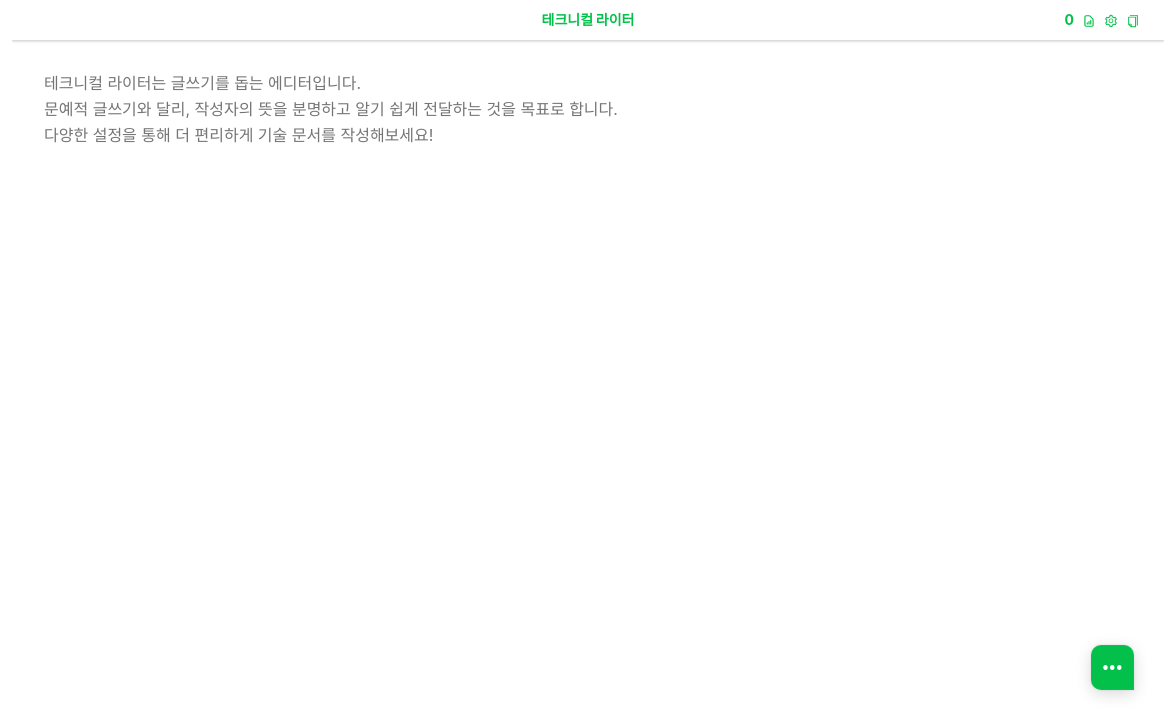
Test: Rendering › close by icon
Click the 1st icon with class "icon--button": {"x": 1089, "y": 23} [1082,14,1096,32]
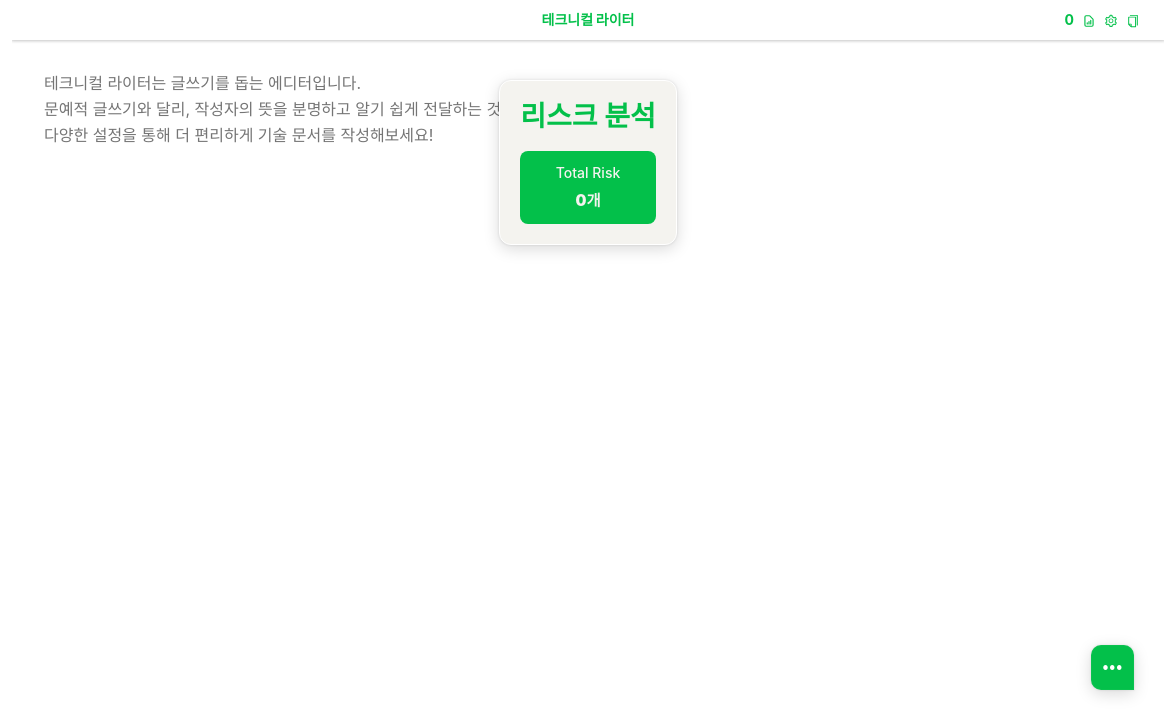
Now the element with class "modal--REPORT" is shown, box [499,80,677,245]
Click the 1st icon with class "icon--button": {"x": 1089, "y": 23} [1082,14,1096,32]
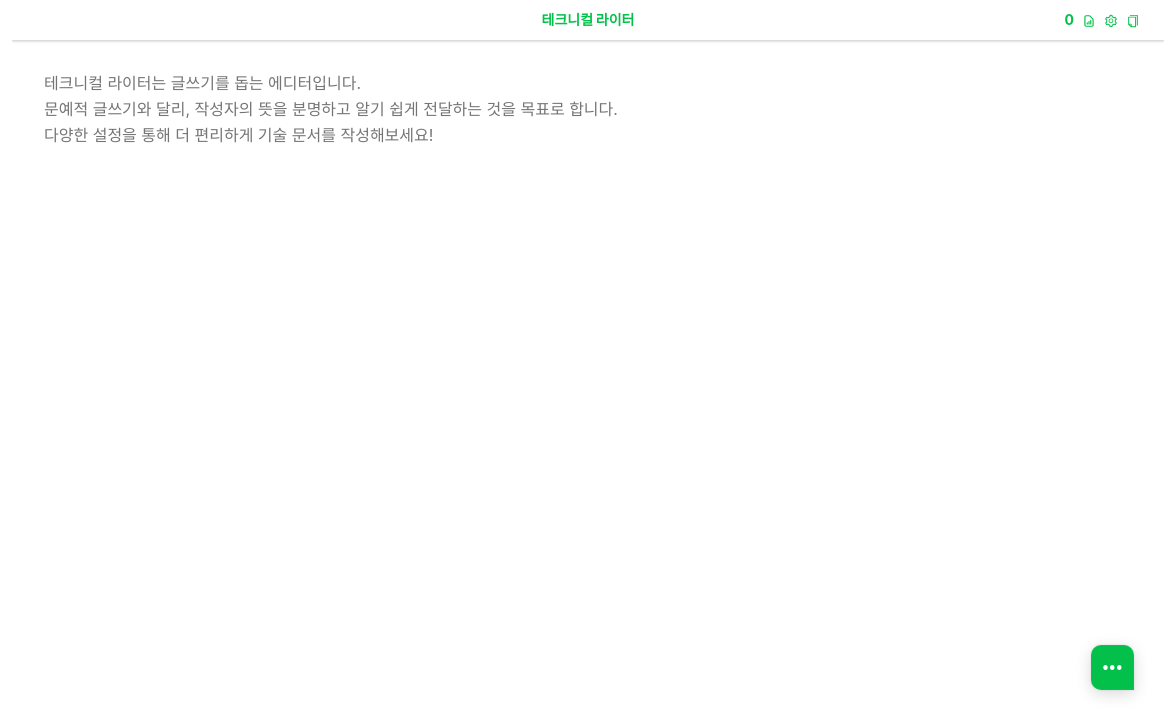
Now the element with class "modal--REPORT" is gone
